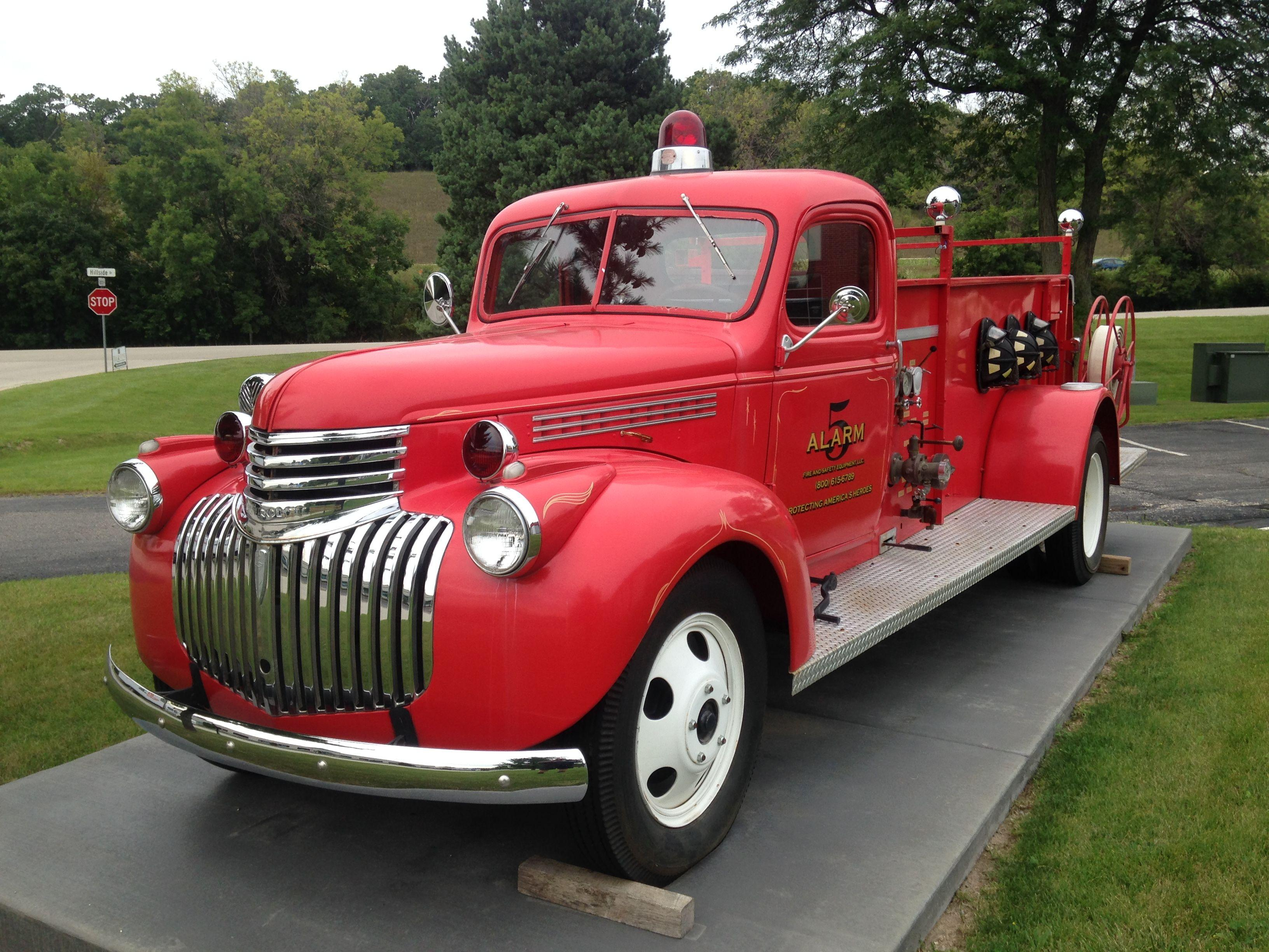Fire-engine: (102, 108, 1139, 887)
